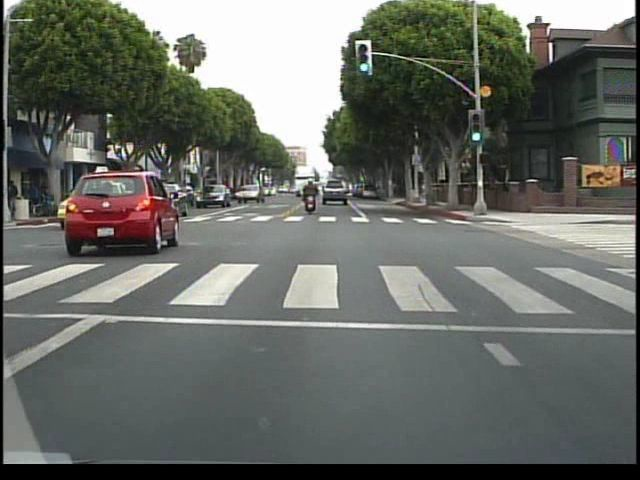person: (301, 177, 322, 221), (7, 174, 22, 222)
